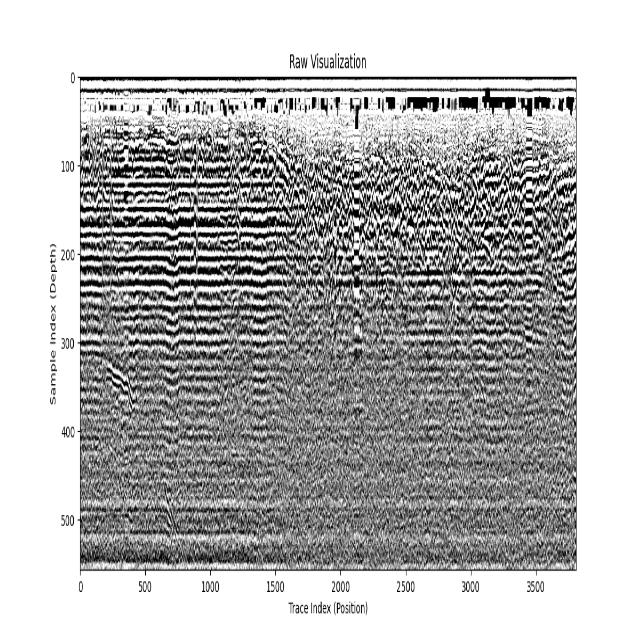anomaly: (97, 348, 144, 417), (154, 496, 183, 558)
